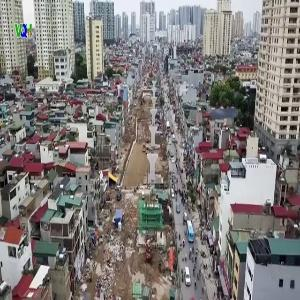drone: (187, 68, 266, 147)
